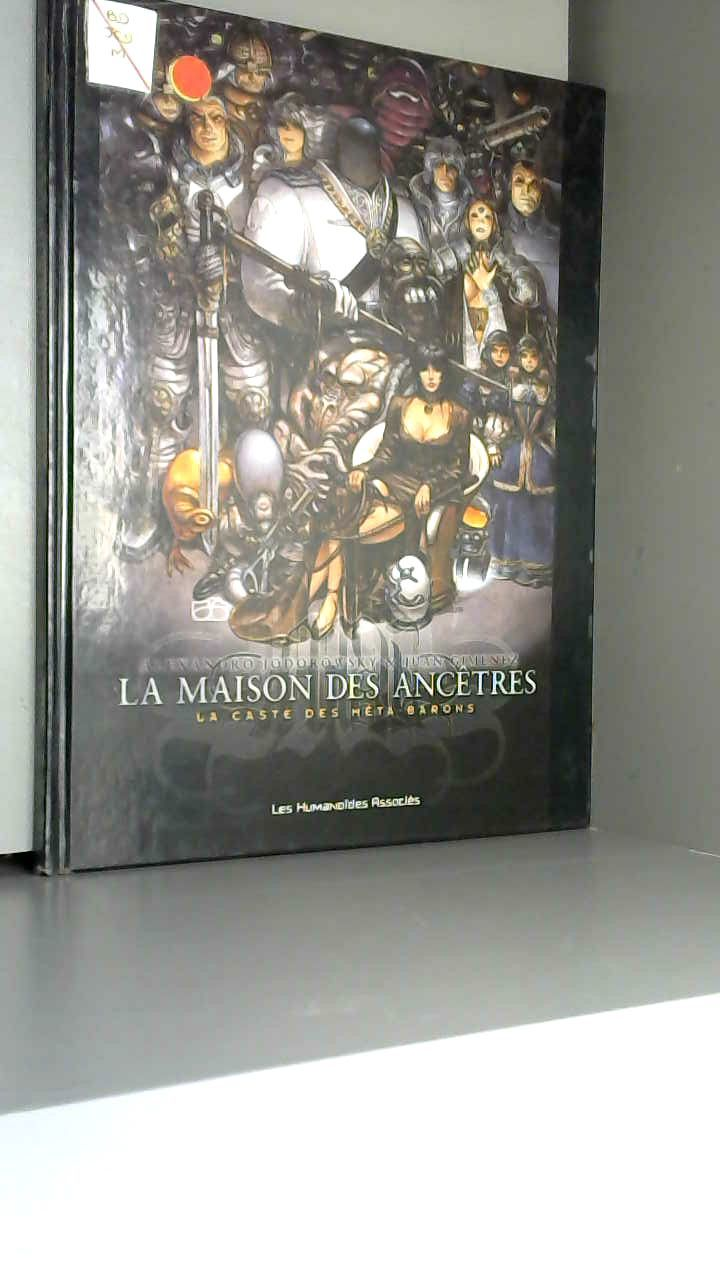book: (0, 0, 715, 899)
